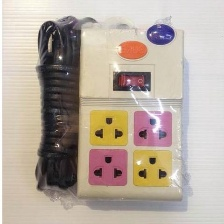three_eye_plug: (70, 18, 191, 206)
